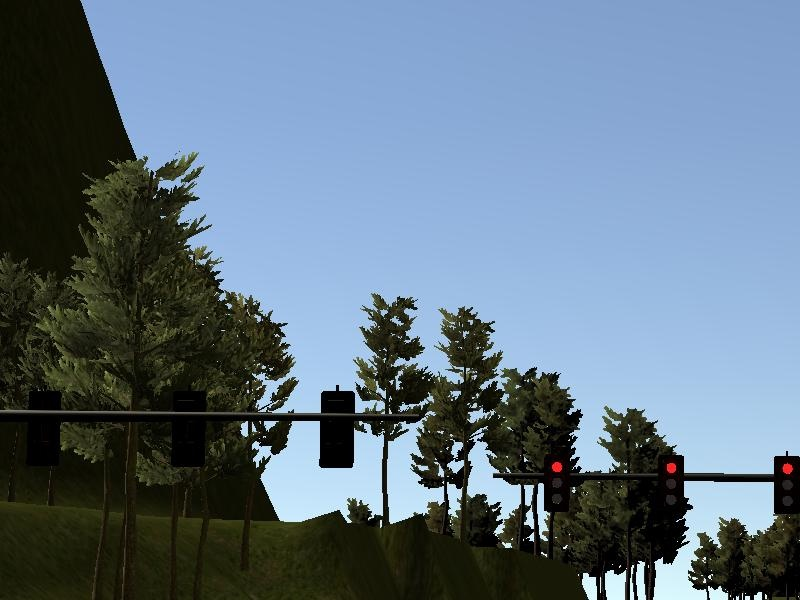traffic_light_red: (516, 455, 800, 513)
